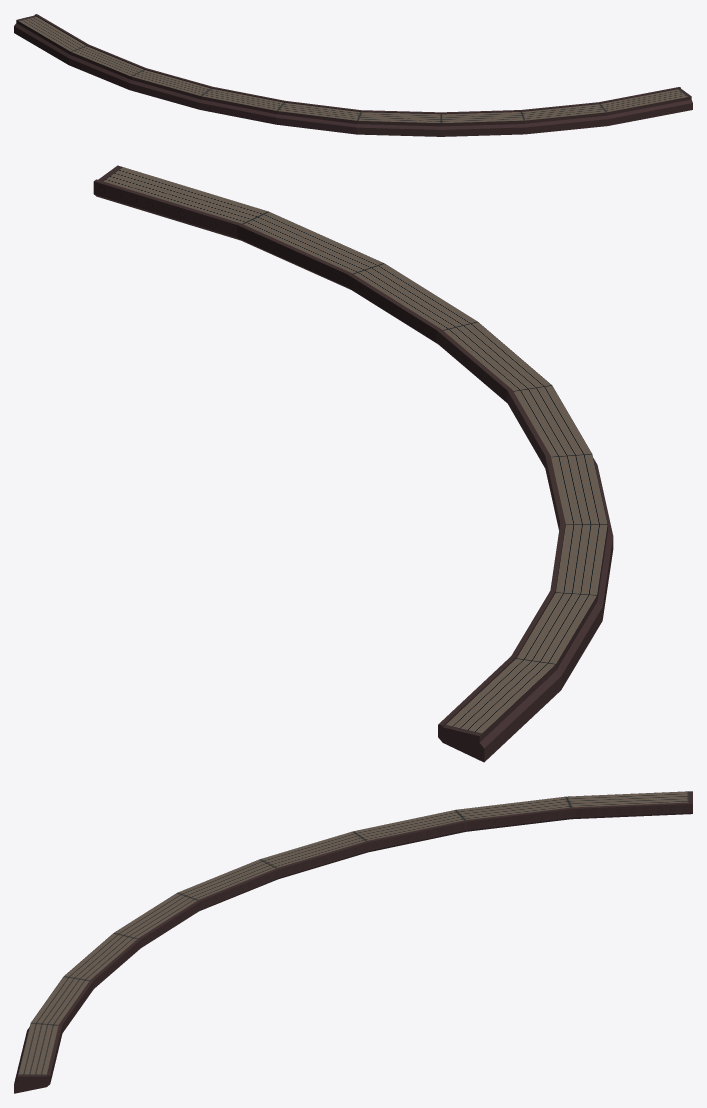
File: SW_ENV_EL_TrackBase_Walkway_SingleOuter_Side_A.fbx
The picture shows the model from 3 angles, top to bottom: view 1: azimuth 30°, elevation 25°; view 2: azimuth 150°, elevation 25°; view 3: azimuth 270°, elevation 25°; orthographic projection. The views are drawn at different scales.
Visible parts, largest first — view 1: SW_ENV_EL_TrackBase_Walkway_SingleOuter_Side_A; view 2: SW_ENV_EL_TrackBase_Walkway_SingleOuter_Side_A; view 3: SW_ENV_EL_TrackBase_Walkway_SingleOuter_Side_A.
Part boxes in pixels (<box>): SW_ENV_EL_TrackBase_Walkway_SingleOuter_Side_A: <box>14,14,692,136</box>; SW_ENV_EL_TrackBase_Walkway_SingleOuter_Side_A: <box>93,165,613,762</box>; SW_ENV_EL_TrackBase_Walkway_SingleOuter_Side_A: <box>14,791,692,1093</box>.
Bounding box in the file's own units: 2805 × 83.5 × 2805.
